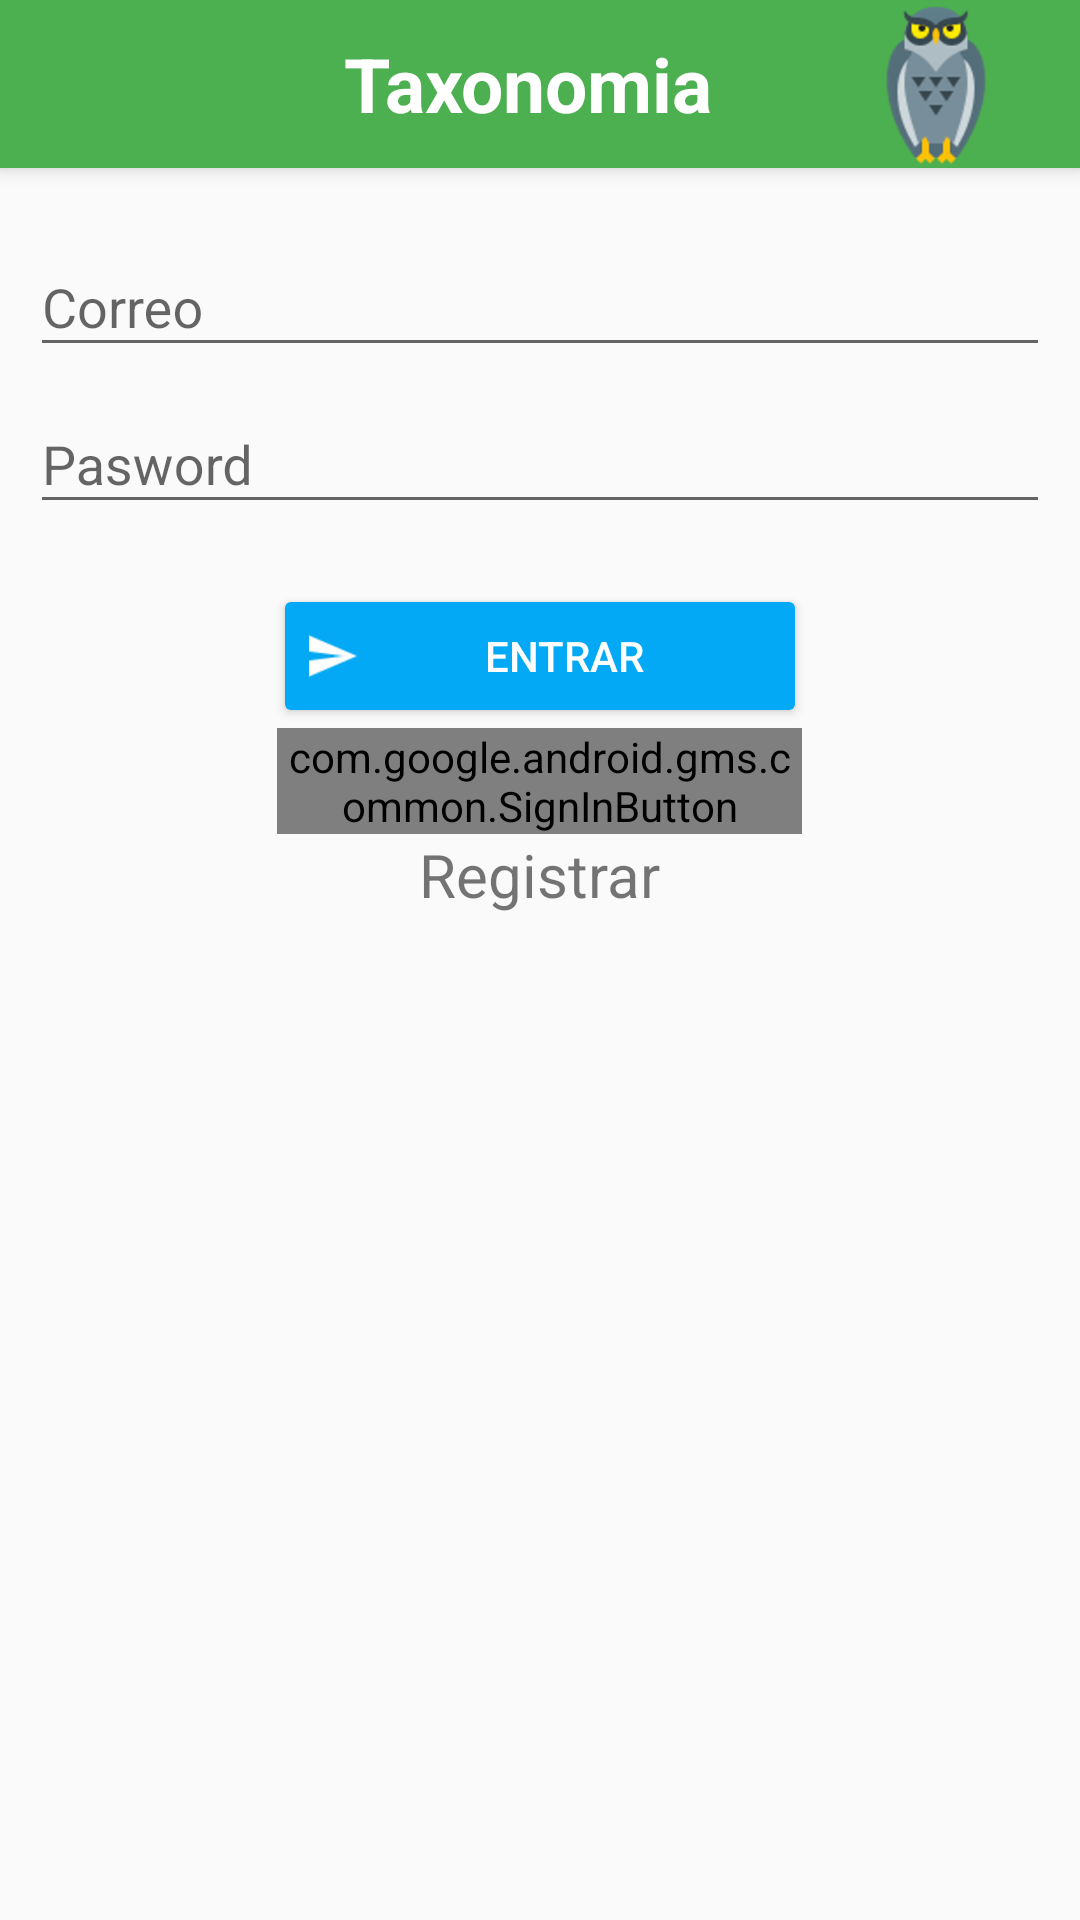

Point at icon controls on the screen. Image size 1080*1920, points as [x,y].
aves: [936,85]
